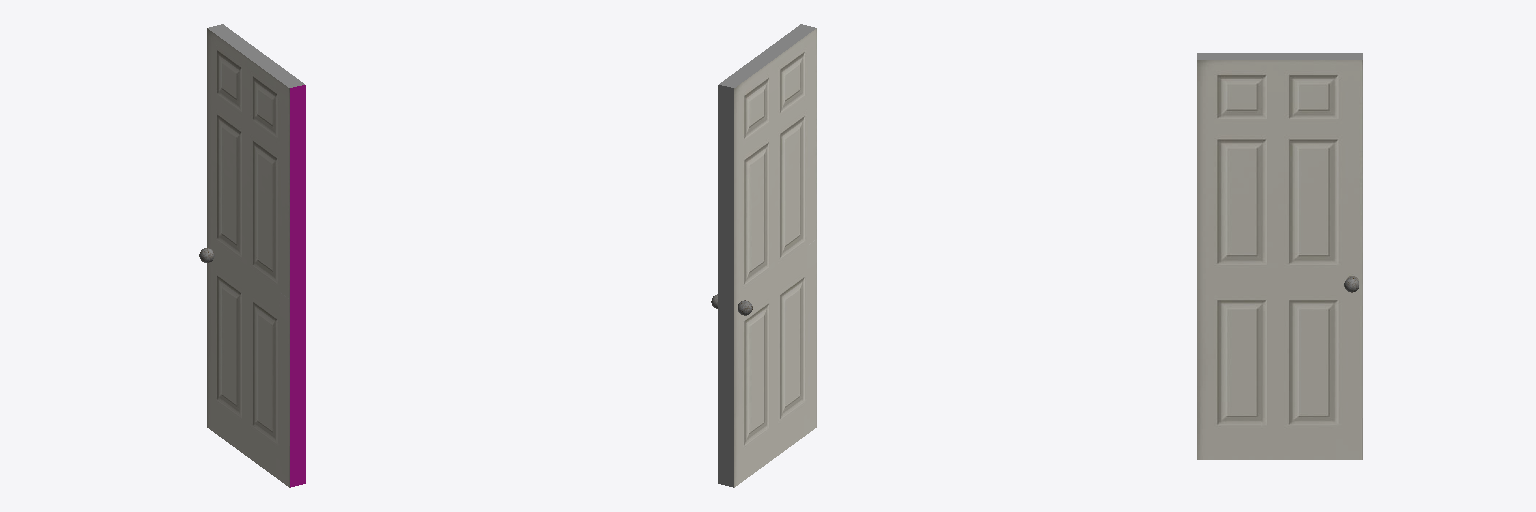
3 views of the same model, side by side, from view 1: azimuth 30°, elevation 25°; view 2: azimuth 150°, elevation 25°; view 3: azimuth 270°, elevation 25° (orthographic).
Parts seen in each view (by area): view 1: Box001; view 2: Box001; view 3: Box001.
Part boxes in pixels (x1,y1,x2,y2): Box001: (207,24,305,487); Box001: (718,24,816,487); Box001: (1197,53,1362,459).
Size of the model in its own units: 8.24 by 80 by 30.
Materials: 5 (3 with a texture image).